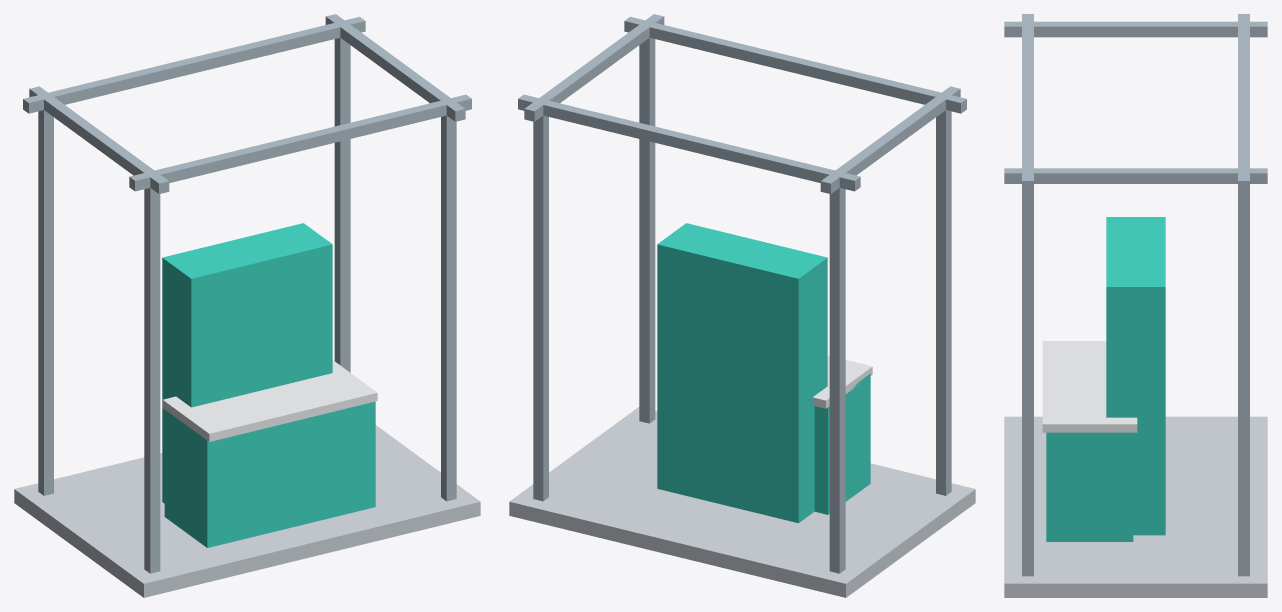
The picture shows the model from 3 angles, left to right: view 1: azimuth 30°, elevation 25°; view 2: azimuth 150°, elevation 25°; view 3: azimuth 270°, elevation 25°; orthographic projection.
Visible parts, largest first — view 1: Exhibition Booth Concept; view 2: Exhibition Booth Concept; view 3: Exhibition Booth Concept.
Boxes of the visible parts, x1,y1,x2,y2 form: Exhibition Booth Concept: (14,14,480,597); Exhibition Booth Concept: (509,14,975,597); Exhibition Booth Concept: (1004,14,1267,597).
Size of the model in its own units: 3 by 3.49 by 2.
